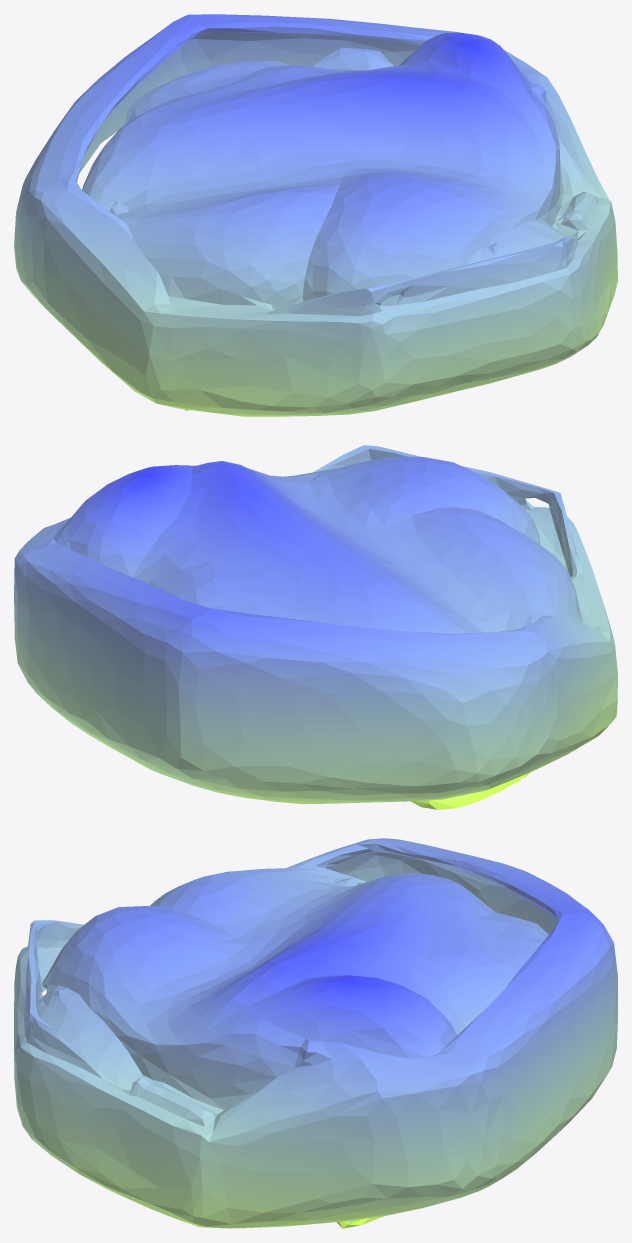
File: 14_cyb_laser_gradient_fish_scales_2963_2026_10_03_189165.glb
3 renders of one model, top to bottom at view 1: azimuth 30°, elevation 25°; view 2: azimuth 150°, elevation 25°; view 3: azimuth 270°, elevation 25°, orthographic. The views are drawn at different scales.
Visible parts, largest first — view 1: geometry_0; view 2: geometry_0; view 3: geometry_0.
Boxes of the visible parts, x1,y1,x2,y2 form: geometry_0: [14, 14, 617, 416]; geometry_0: [14, 445, 617, 809]; geometry_0: [14, 838, 617, 1228].
Size of the model in its own units: 1 by 0.4446 by 1.
